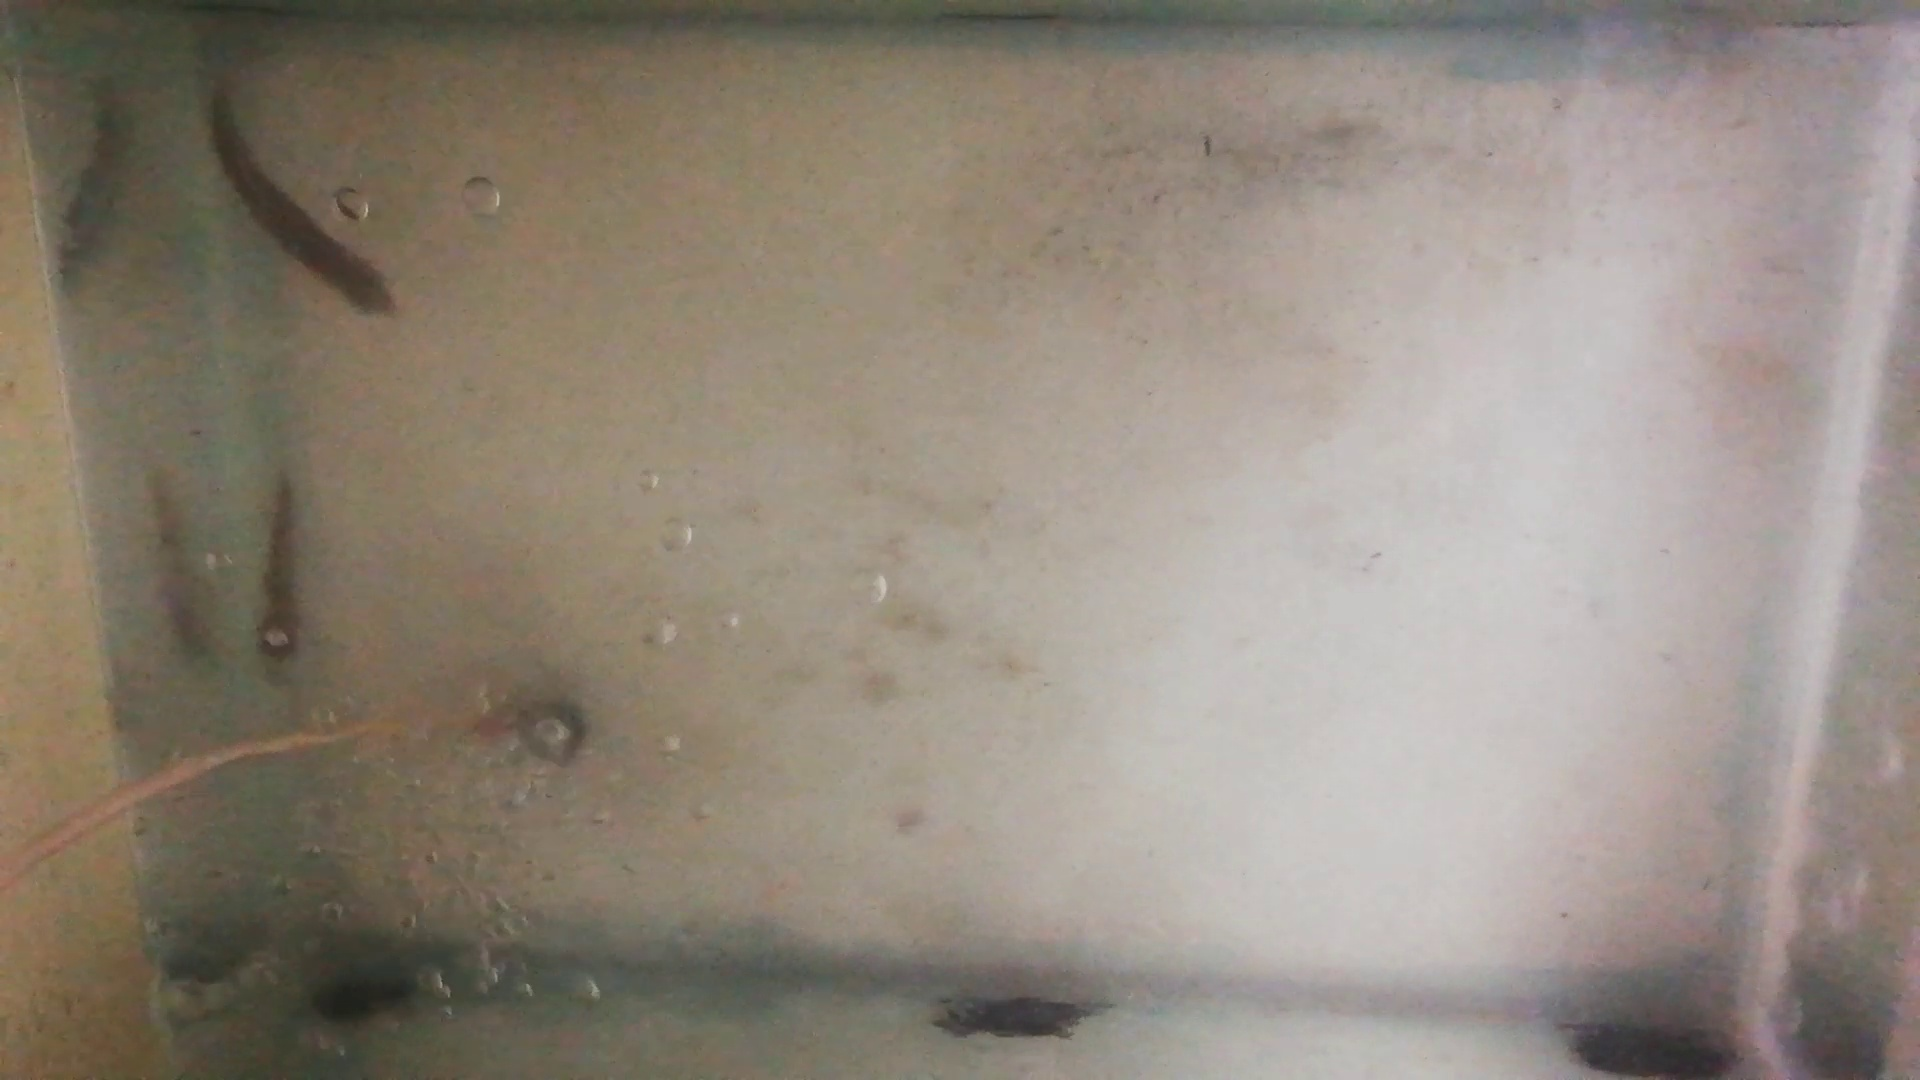fish: (211, 80, 401, 316), (251, 471, 298, 670)
